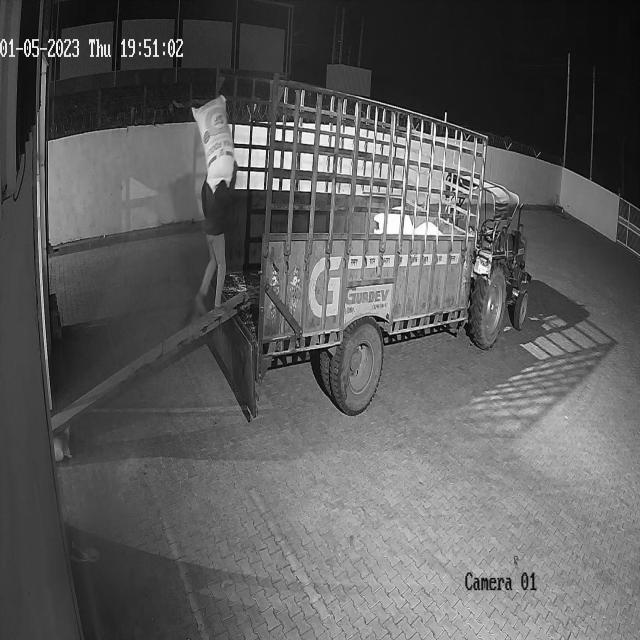sack: (192, 93, 235, 192)
